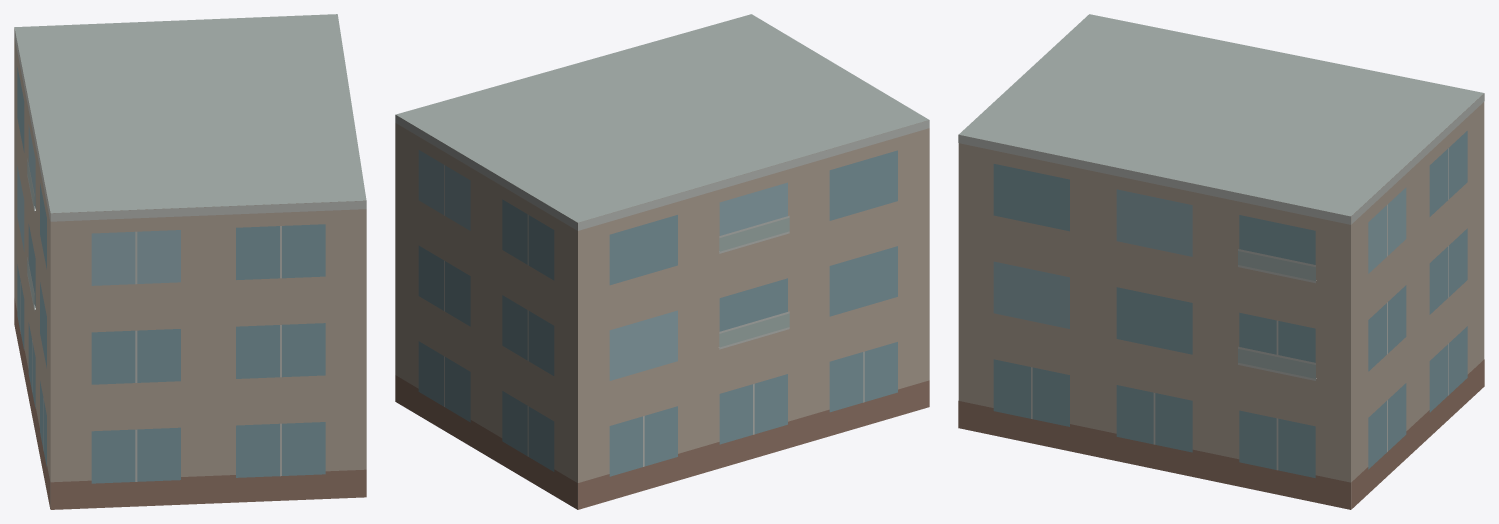
Rendered from survey-upis-32675134.glb.
3 renders of one model, left to right at view 1: azimuth 30°, elevation 25°; view 2: azimuth 150°, elevation 25°; view 3: azimuth 270°, elevation 25°, orthographic. The views are drawn at different scales.
Visible parts, largest first — view 1: survey-upis-32675134.tmp; view 2: survey-upis-32675134.tmp; view 3: survey-upis-32675134.tmp.
Boxes of the visible parts, x1,y1,x2,y2 form: survey-upis-32675134.tmp: [14, 14, 366, 509]; survey-upis-32675134.tmp: [395, 14, 929, 509]; survey-upis-32675134.tmp: [958, 14, 1484, 509].
Size of the model in its own units: 12.59 by 8.5 by 13.82.
